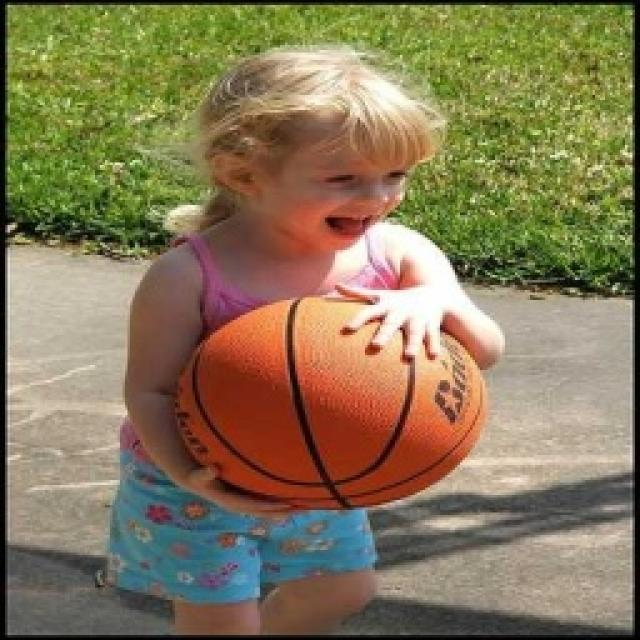rim: (168, 292, 492, 516)
